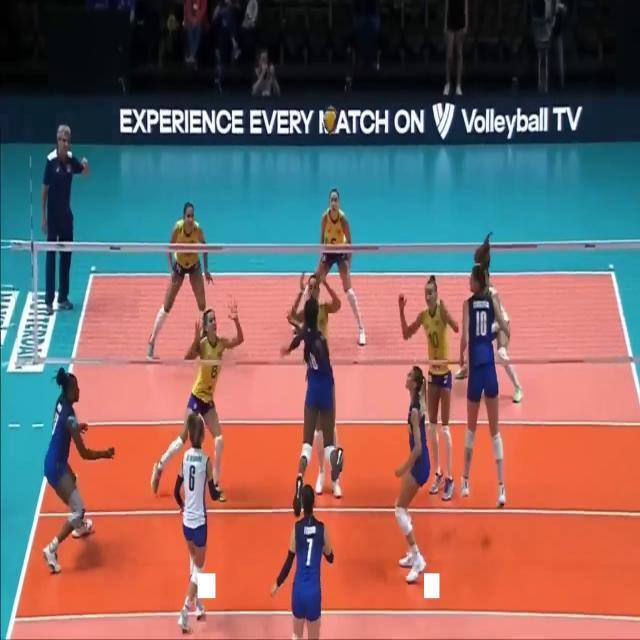volleyball: (323, 106, 337, 134)
